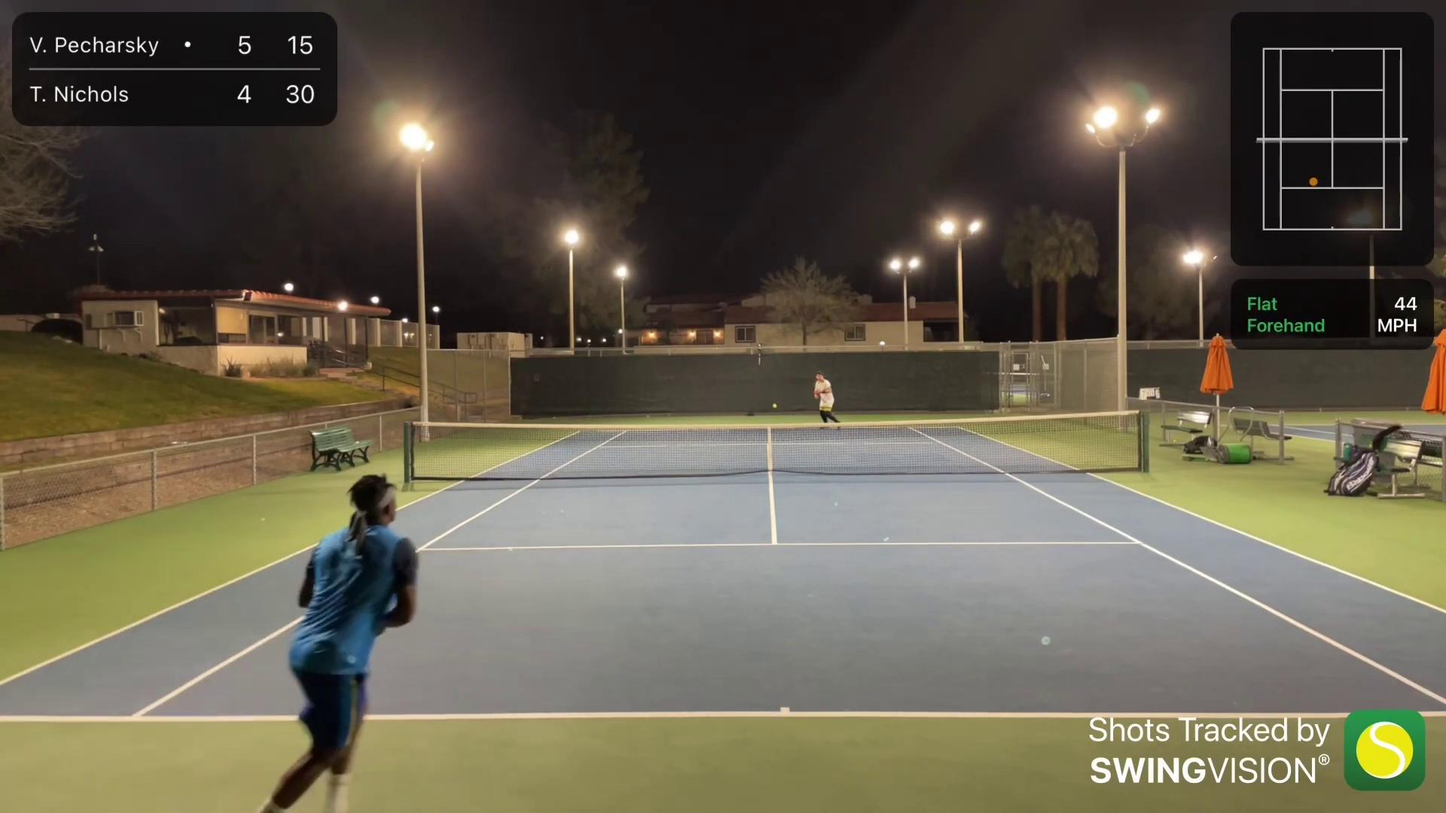ball: (771, 405, 779, 411)
